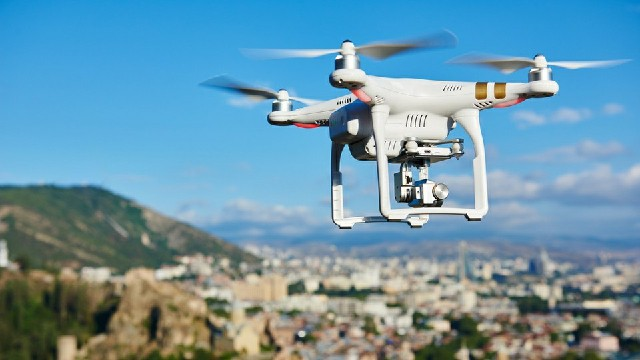maybay_khongnguoilai: (213, 39, 612, 227)
